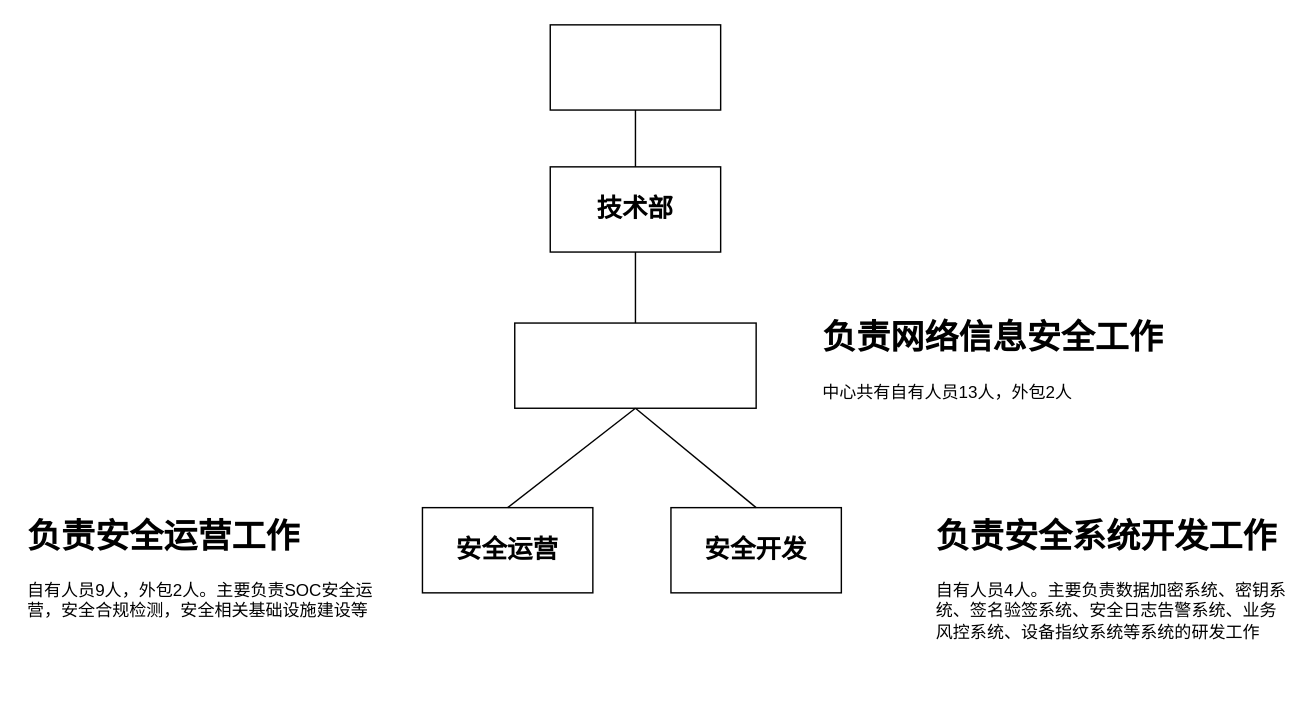
Some shapes in this 1312 by 707 pixel diagram are drawn without their labels. The shapes that lost their labels are listed below. From the top down, each one's box as (x1, y1, x2, y2) in pixels, then its label:
(549, 23, 721, 110): 支付公司
(513, 322, 756, 408): 信息安全风控中心
